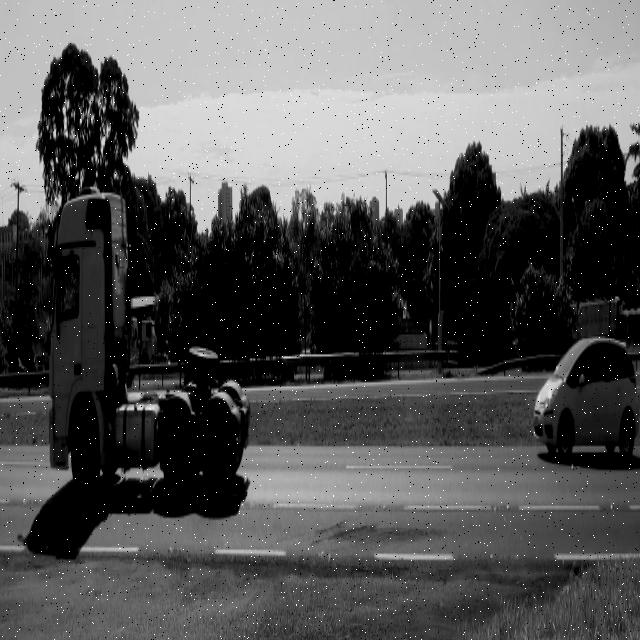-axle: (160, 410, 194, 499), (69, 413, 100, 507), (202, 411, 232, 500)
